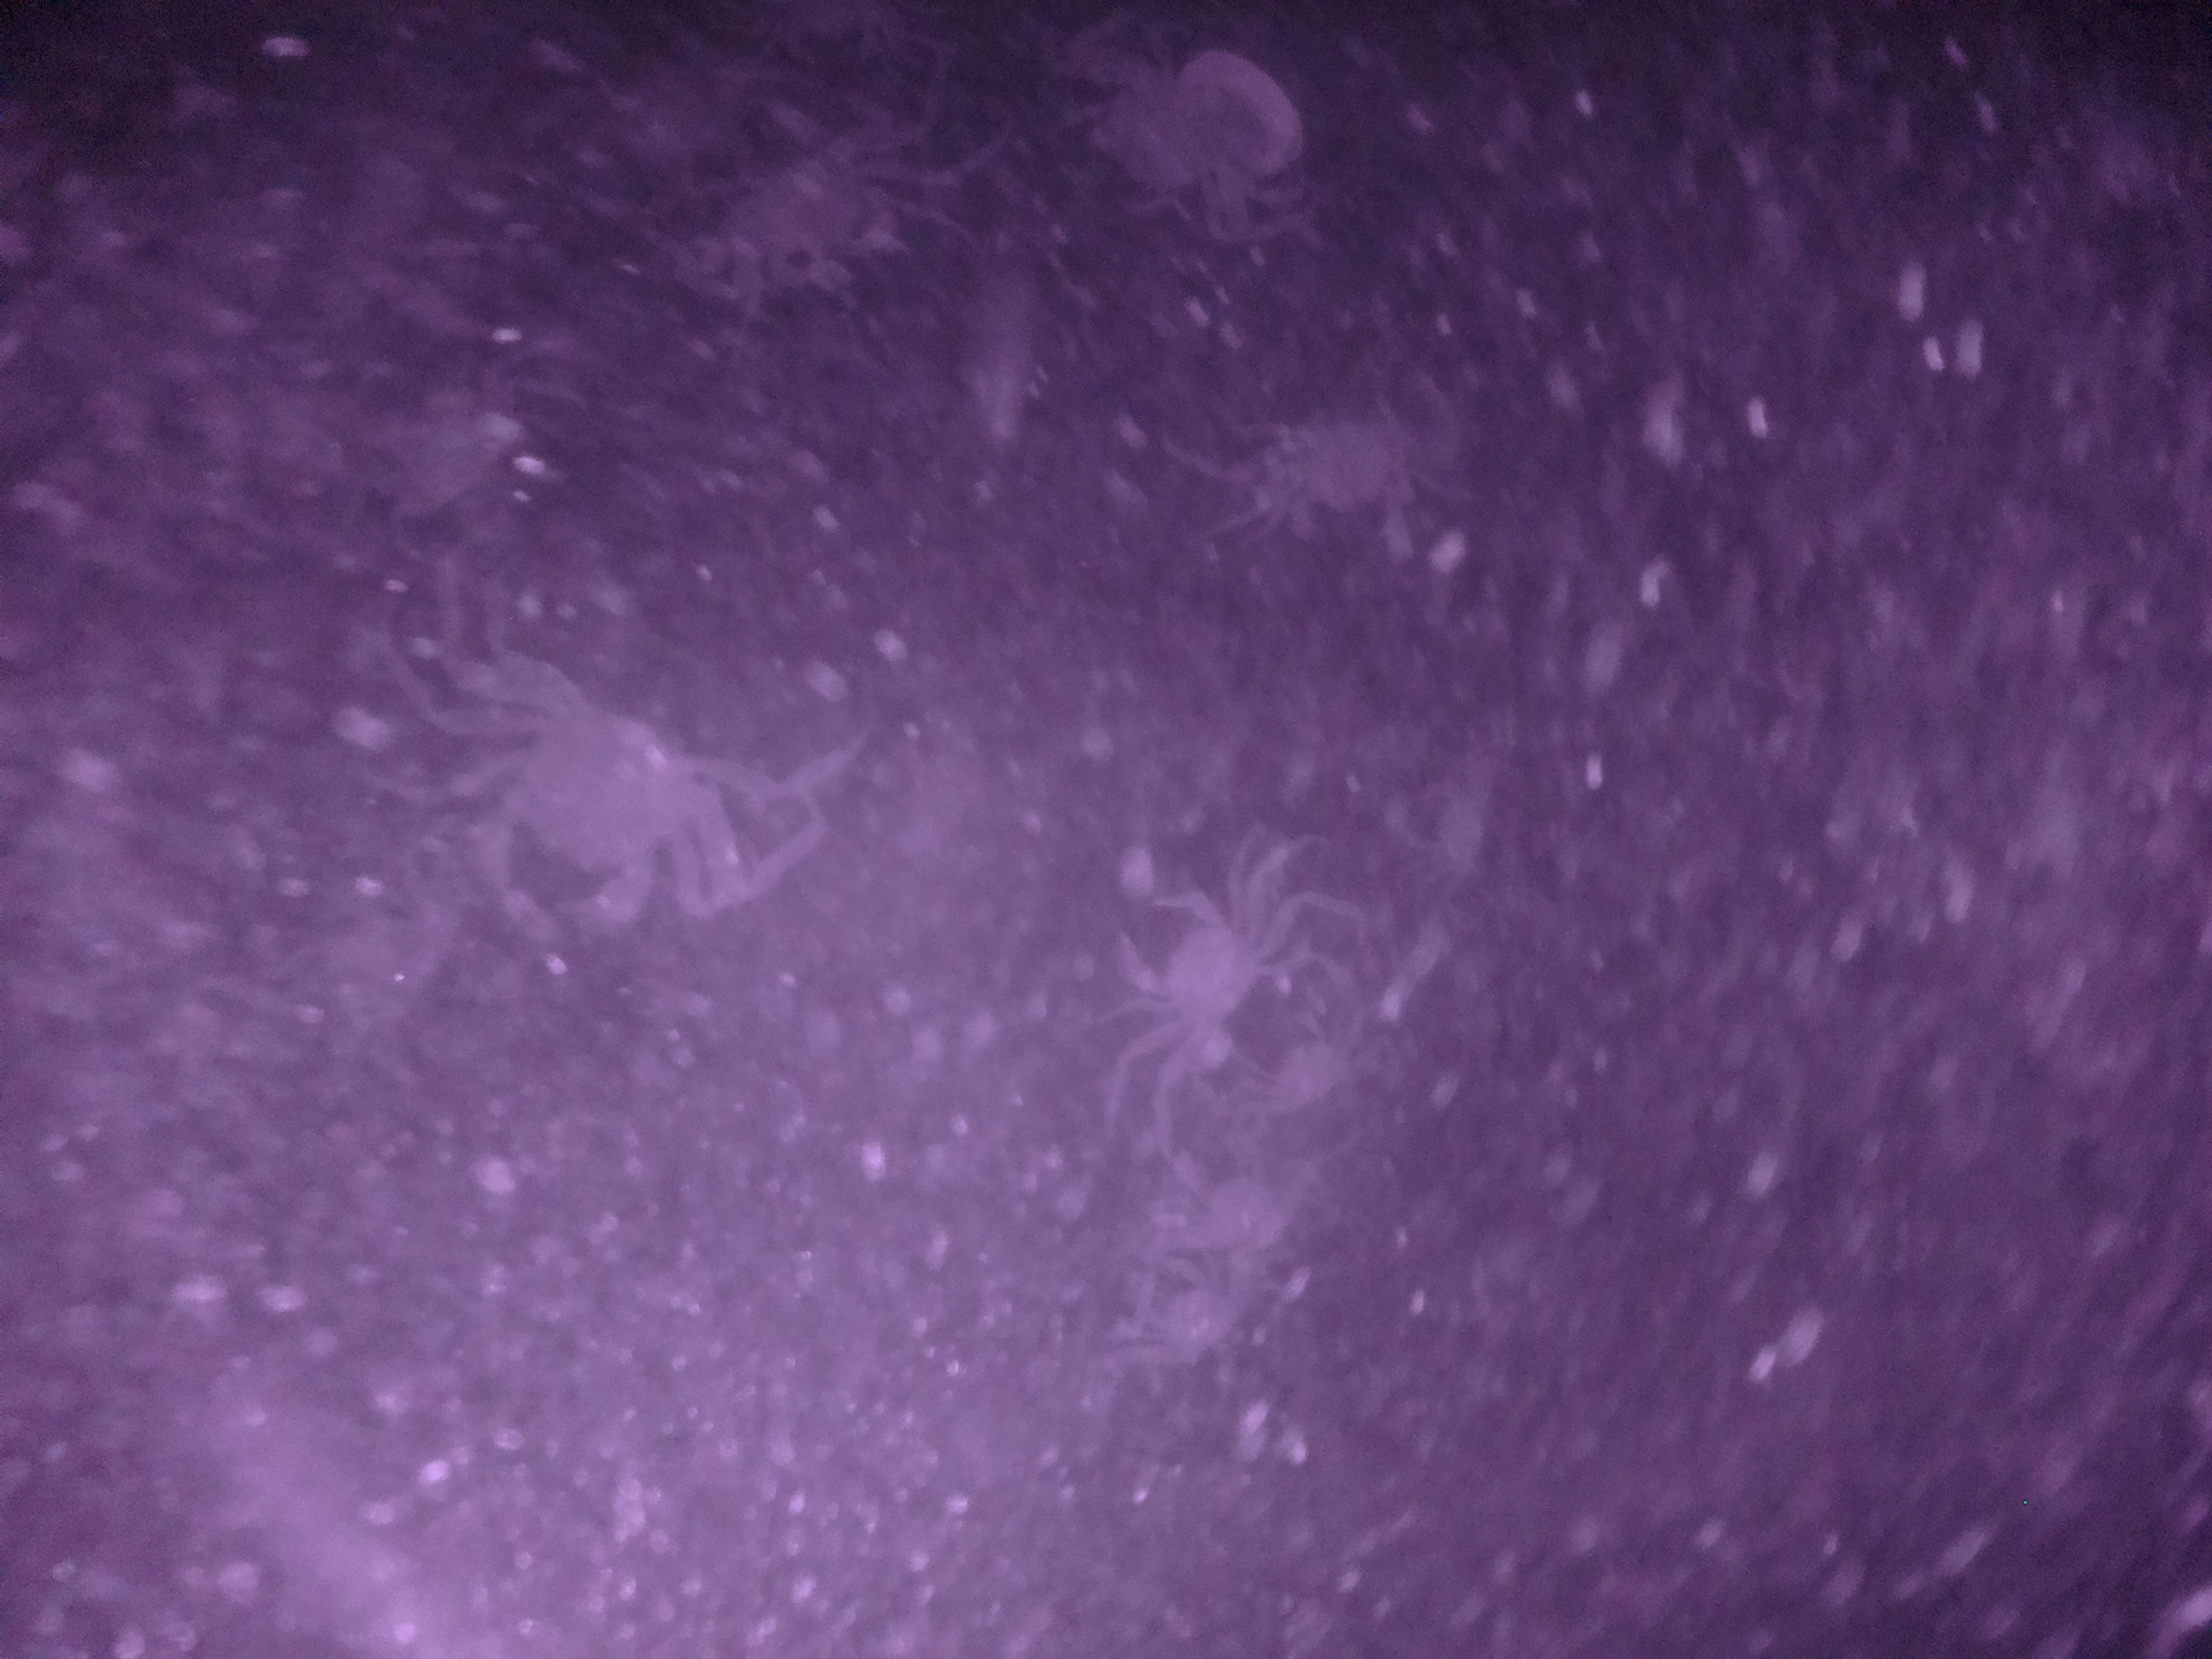Crab: (1099, 859, 1282, 1073)
